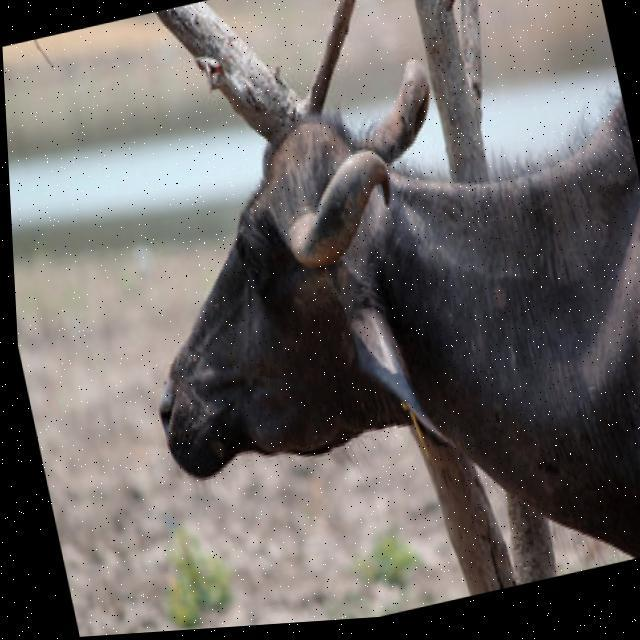Buffalo: (70, 0, 640, 635)
